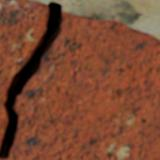brick: (0, 11, 159, 159), (0, 0, 47, 145)
crack: (0, 1, 63, 157)
